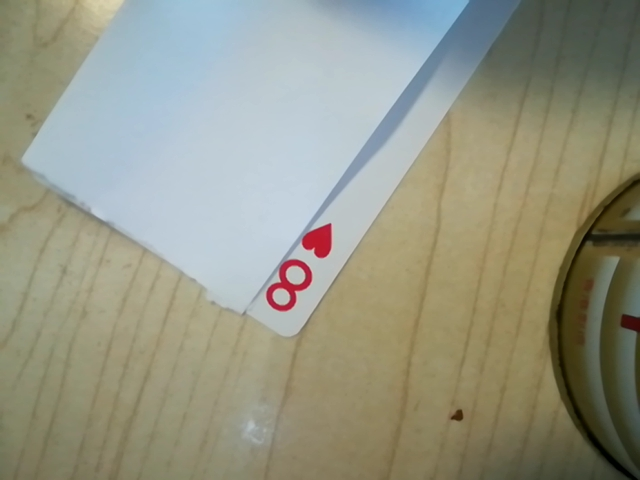hx 8: (253, 220, 337, 321)
